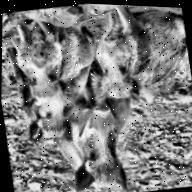boar: (79, 3, 192, 113), (5, 9, 106, 116)
